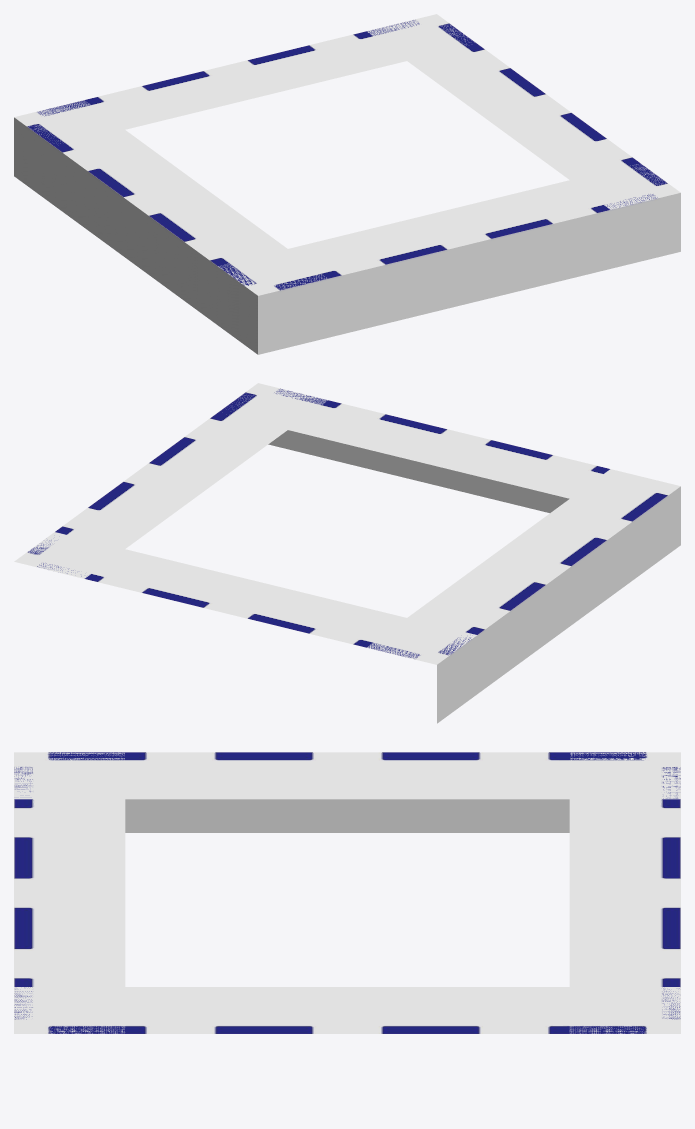
Rendered from cafe_grid_tile_mesh.fbx.
3 renders of one model, top to bottom at view 1: azimuth 30°, elevation 25°; view 2: azimuth 150°, elevation 25°; view 3: azimuth 270°, elevation 25°, orthographic. The views are drawn at different scales.
Parts seen in each view (by area): view 1: cafe_grid_tile_mesh; view 2: cafe_grid_tile_mesh; view 3: cafe_grid_tile_mesh.
Boxes of the visible parts, bbox=[...] form: cafe_grid_tile_mesh: bbox=[14, 14, 680, 354]; cafe_grid_tile_mesh: bbox=[14, 383, 680, 723]; cafe_grid_tile_mesh: bbox=[14, 752, 680, 1033].
Bounding box in the file's own units: 0.6 × 0.08 × 0.6.
Materials: 1 (1 with a texture image).
